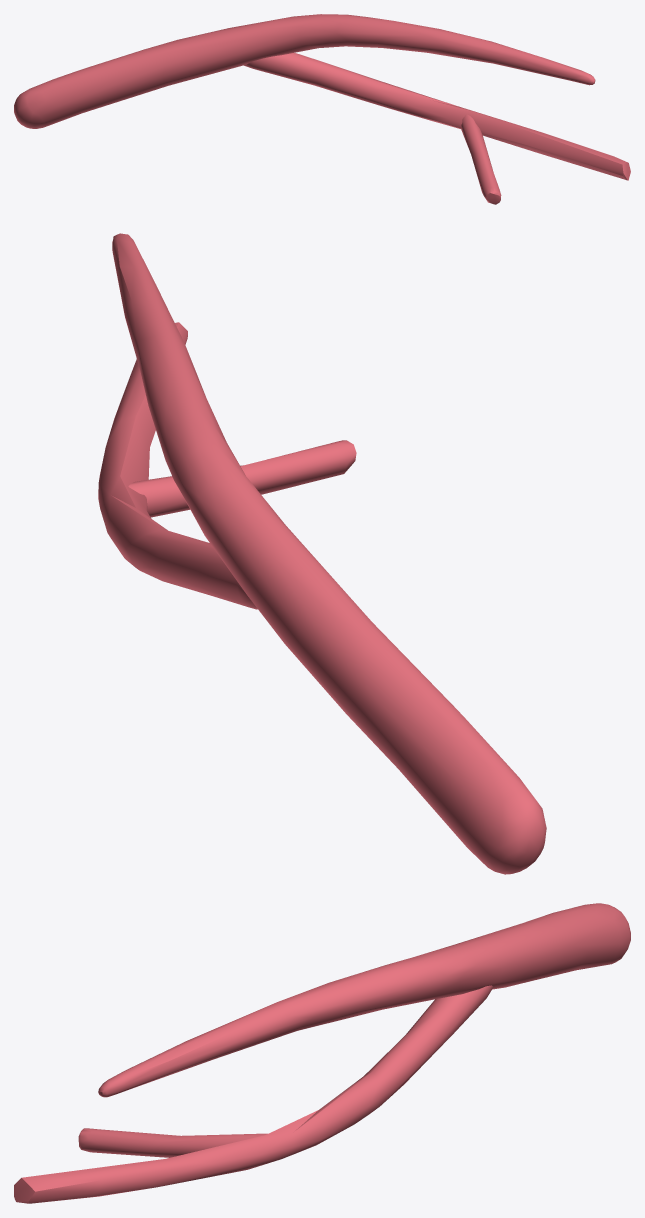
The model's file is fma8667_cx278.glb.
The picture shows the model from 3 angles, top to bottom: view 1: azimuth 30°, elevation 25°; view 2: azimuth 150°, elevation 25°; view 3: azimuth 270°, elevation 25°; orthographic projection. The views are drawn at different scales.
Parts seen in each view (by area): view 1: FMA8667_CX278; view 2: FMA8667_CX278; view 3: FMA8667_CX278.
Part boxes in pixels (bbox=[...]): FMA8667_CX278: bbox=[14, 14, 630, 204]; FMA8667_CX278: bbox=[98, 233, 546, 874]; FMA8667_CX278: bbox=[14, 903, 630, 1203].
Bounding box in the file's own units: 0.0538 × 0.0149 × 0.0514.
